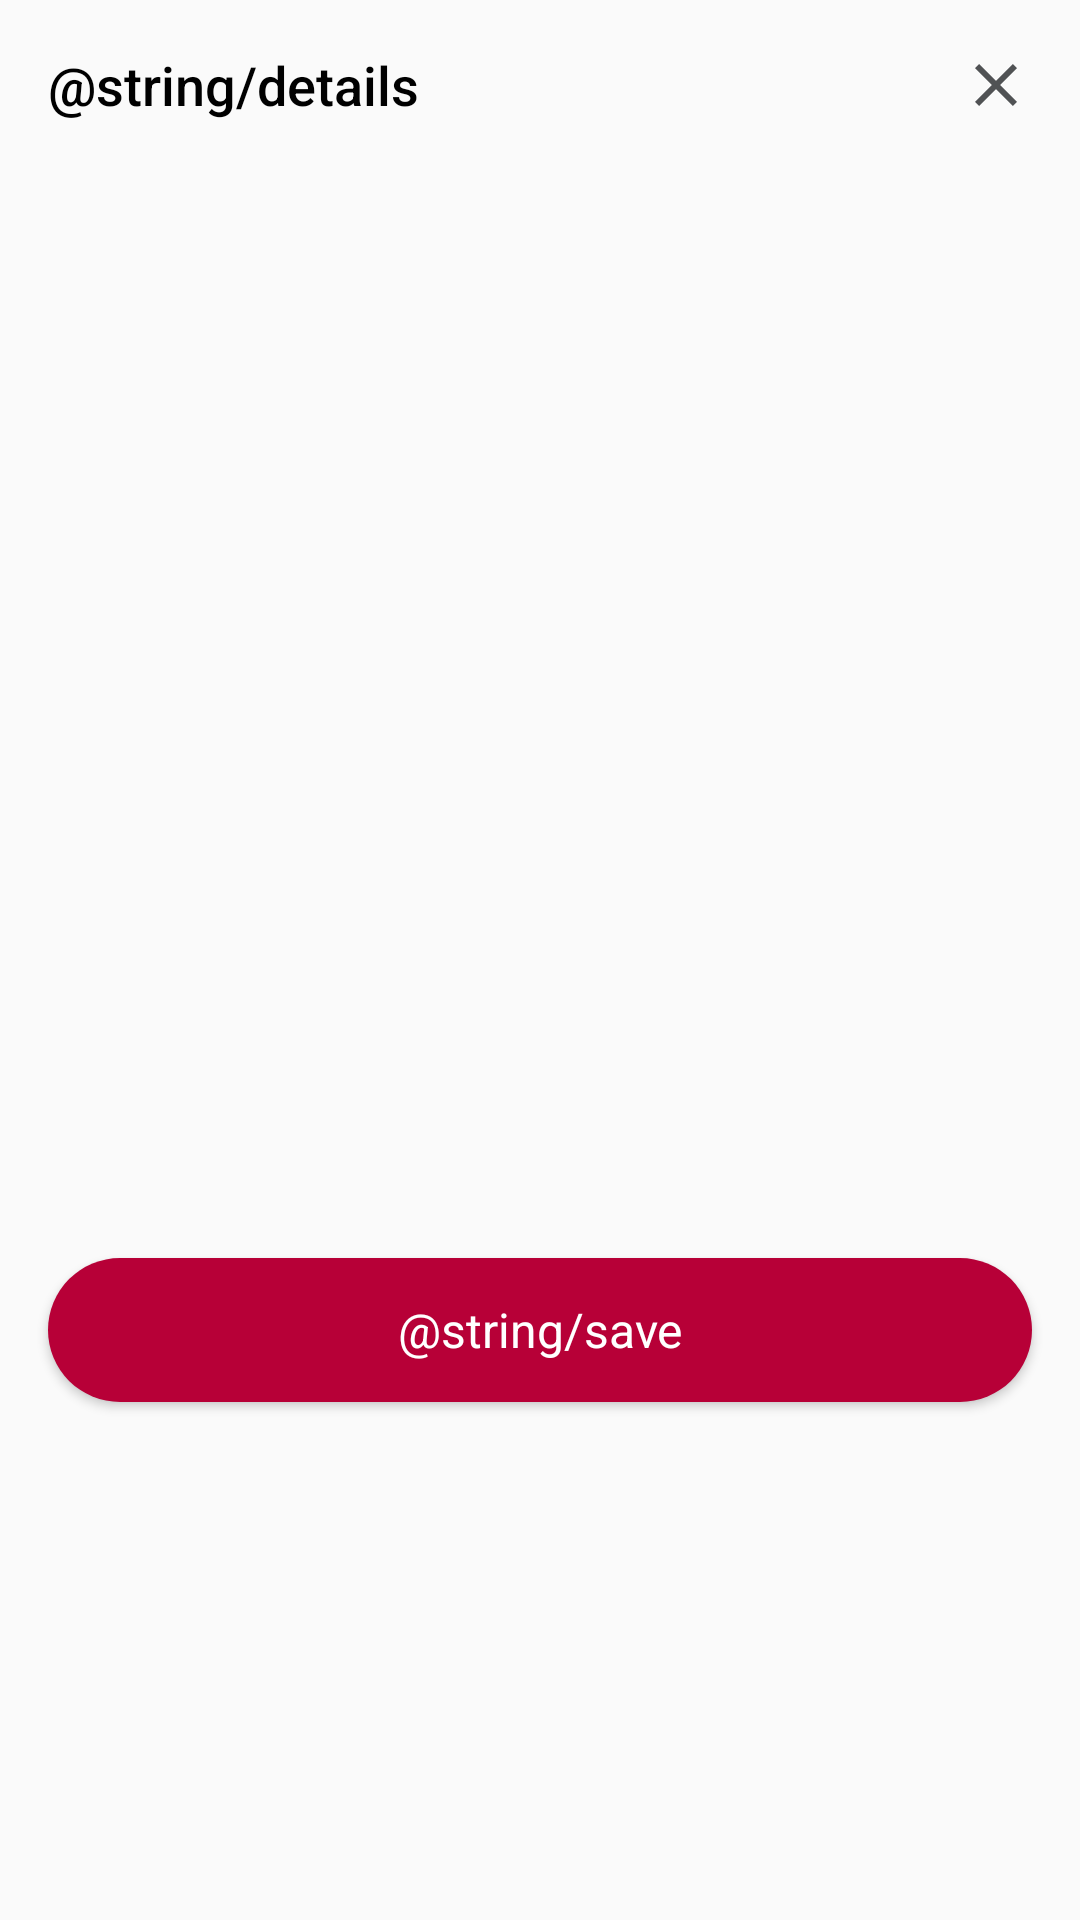

Named icons in this screenshot (1080 × 1920) and their centers, [x,y]:
close: [996,85]
